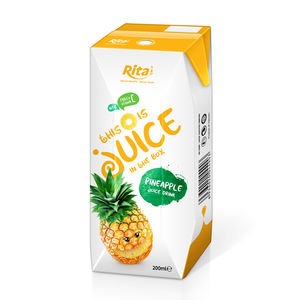carton: (78, 9, 225, 285)
